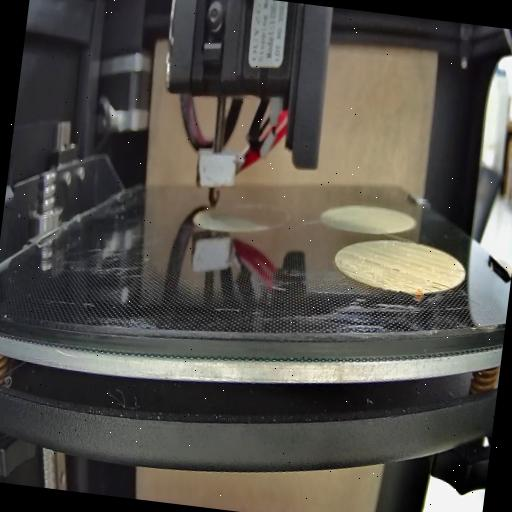under_extrusion: (421, 280, 453, 296), (397, 276, 419, 292), (445, 267, 467, 281), (359, 257, 382, 270), (340, 266, 358, 280), (382, 263, 404, 274), (374, 277, 390, 286)
